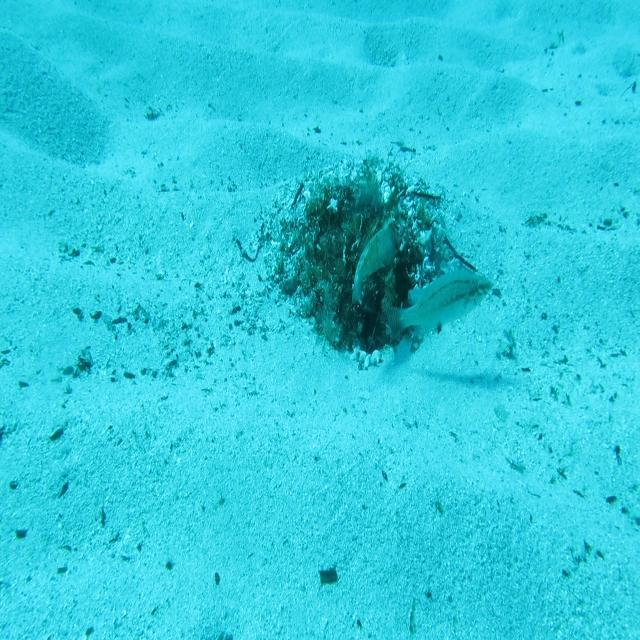ROLL: (349, 220, 402, 309)
core_nest: (333, 196, 380, 242)
female: (381, 266, 495, 350)
nest: (260, 144, 479, 382)
vegetation: (317, 565, 340, 585)
